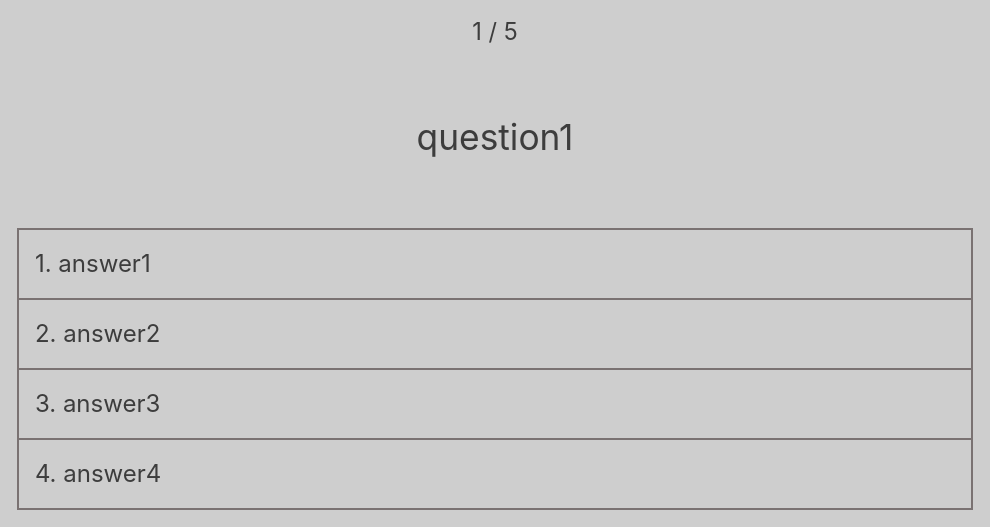
Scenario: Questions › Navigates to next question after answer is clicked
Click the element with test id "answers" showing "3. answer3" at x=495, y=404, box [17,369,973,439]
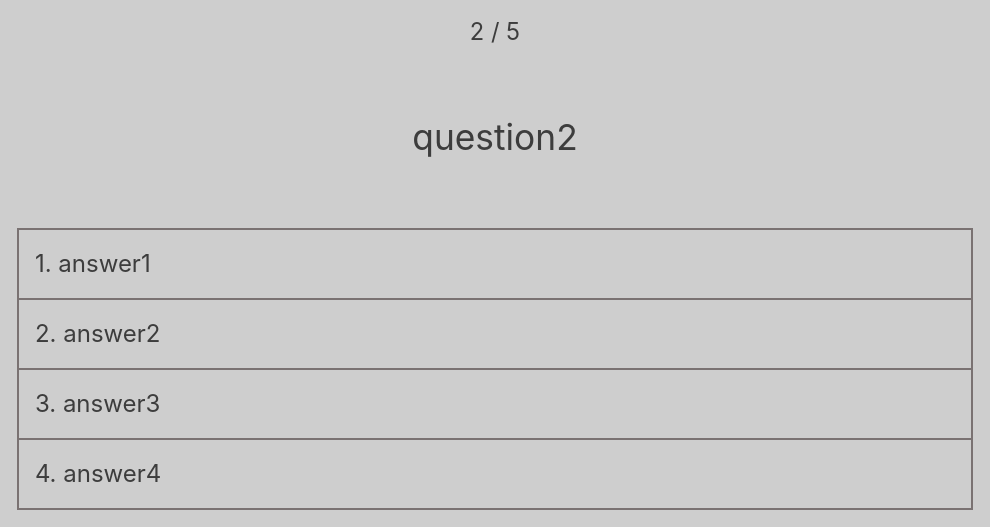
Check: the text with test id "question-index" reads "2 / 5", box [470,17,520,46]
